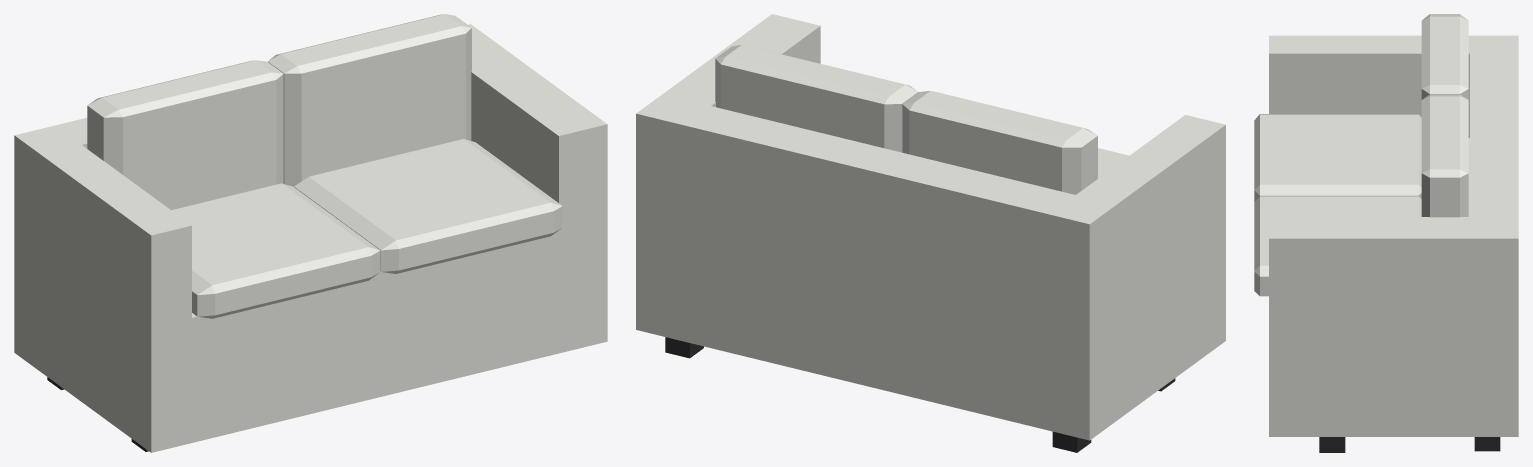
Rendered from Couch_1A.fbx.
3 renders of one model, left to right at view 1: azimuth 30°, elevation 25°; view 2: azimuth 150°, elevation 25°; view 3: azimuth 270°, elevation 25°, orthographic. The views are drawn at different scales.
Visible parts, largest first — view 1: polySurface2340; view 2: polySurface2340; view 3: polySurface2340.
Part boxes in pixels (x1,y1,x2,y2): polySurface2340: [14, 14, 607, 452]; polySurface2340: [636, 14, 1225, 452]; polySurface2340: [1254, 14, 1518, 452].
Bounding box in the file's own units: 1.85 × 1.13 × 1.02.
1 material, 1 textured.
